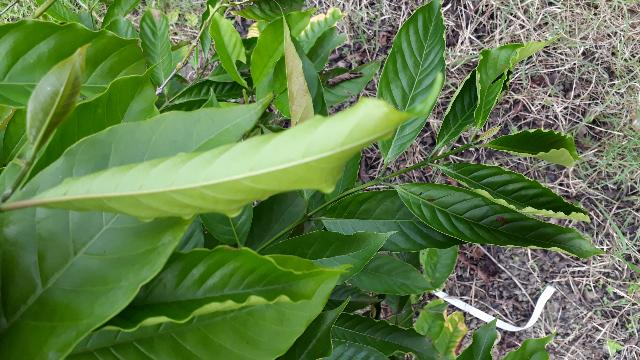healthy: (27, 100, 423, 223)
